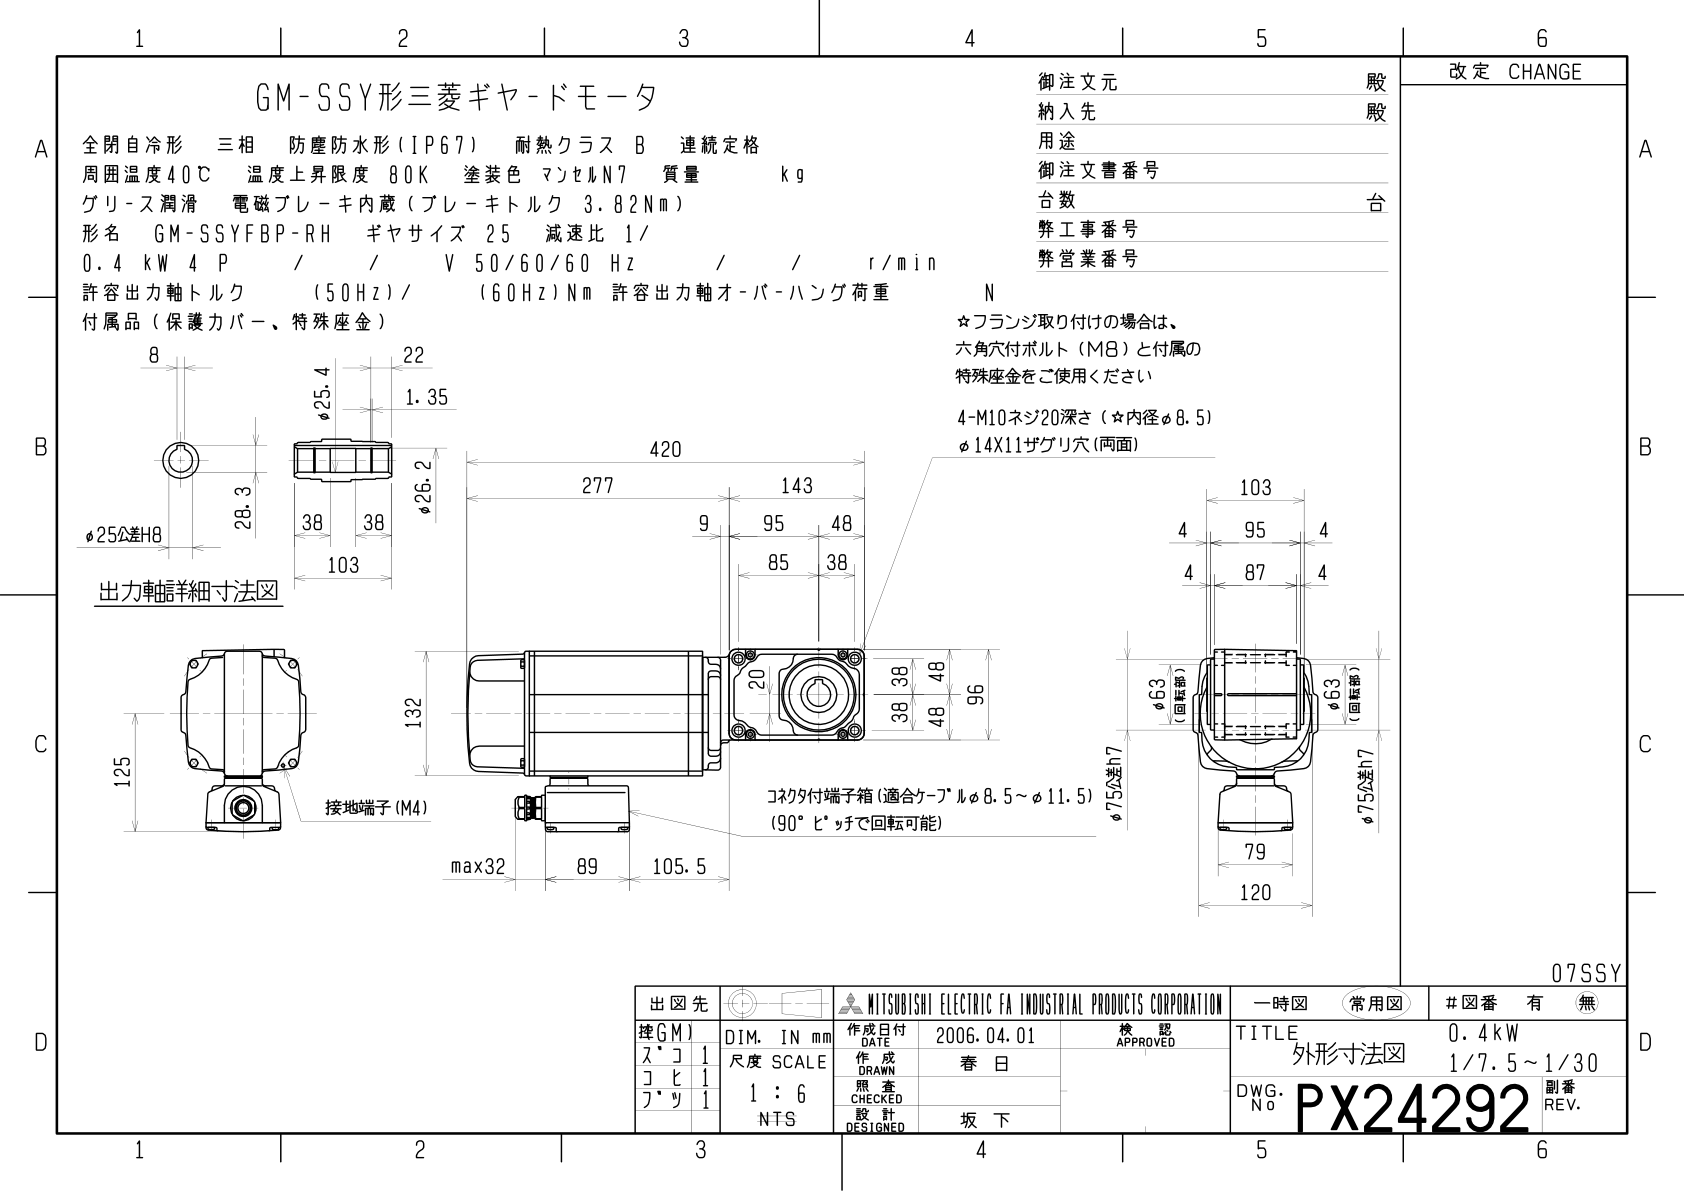GM_SSY_IP67_三相: (73, 339, 1395, 956)
